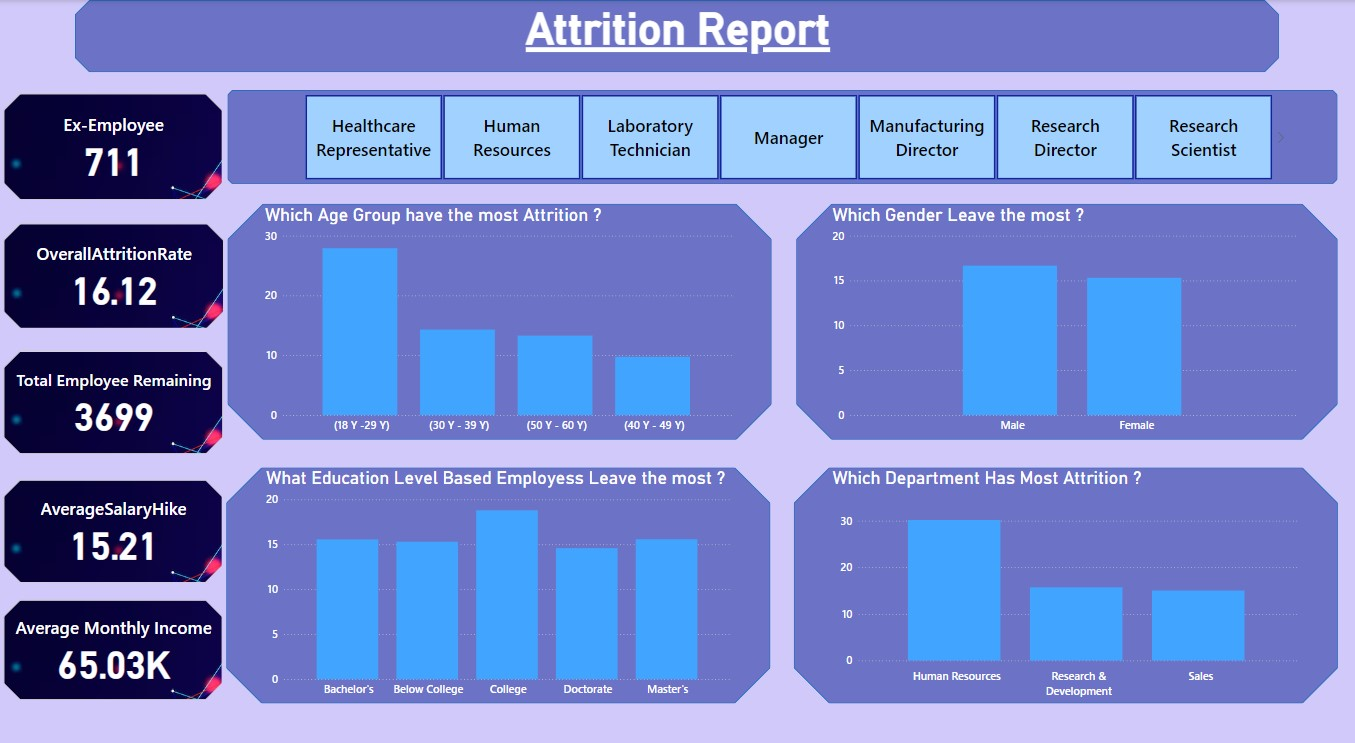

The page's visual inventory and layout, read from the dashboard file:
{"tool":"powerbi","page":{"name":"Main Dashboard","canvas":[2000,1100],"ordinal":0},"visuals":[{"type":"cardVisual","fields":{"Data":["Measure.Ex-Employee"]},"box":[0,132.7,333.6,167.7],"z":0},{"type":"cardVisual","fields":{"Data":["Measure.Total Employee"]},"box":[0,512.4,334.5,163],"z":1000},{"type":"shape","box":[335.8,299.6,802.3,347.9],"z":2000},{"type":"shape","box":[110.6,0,1775.5,106.6],"z":3000},{"type":"textbox","box":[737.9,0,524.8,90.5],"z":4000},{"type":"cardVisual","fields":{"Data":["Measure.OverallAttritionRate"]},"box":[0,324.4,335.5,165.9],"z":5000},{"type":"columnChart","title":"Which Age Group have the most Attrition ?","fields":{"Y":["Measure.OverallAttritionRate"],"Category":["Attrition data.Age (groups)"]},"box":[386.1,299.6,699.7,347.9],"z":6000},{"type":"shape","box":[1170.2,689.7,802.3,347.9],"z":7000},{"type":"shape","box":[1174.3,299.6,798.3,347.9],"z":8000},{"type":"shape","box":[335.8,132.7,1636.7,138.7],"z":9000},{"type":"columnChart","title":"Which Gender Leave the most ?","fields":{"Y":["Measure.OverallAttritionRate"],"Category":["Attrition data.Gender"]},"box":[1222.5,299.6,697.7,347.9],"z":10000},{"type":"columnChart","title":"Which Department Has Most Attrition ?","fields":{"Y":["Measure.OverallAttritionRate"],"Category":["Attrition data.Department"]},"box":[1222.5,689.7,697.7,347.9],"z":11000},{"type":"slicer","title":"OverallAttritionRate by Gender","fields":{"Values":["Attrition data.JobRole"]},"box":[424.3,132.7,1475.9,138.7],"z":12000},{"type":"shape","box":[333.8,689.7,802.3,347.9],"z":13000},{"type":"cardVisual","fields":{"Data":["Measure.APSH"]},"box":[0,702.2,333.6,162.2],"z":14000},{"type":"columnChart","title":"What Education Level Based Employess Leave the most ? ","fields":{"Y":["Measure.OverallAttritionRate"],"Category":["Education Level.Description"]},"box":[387.1,689.3,696.7,348.4],"z":15000},{"type":"cardVisual","fields":{"Data":["Measure.Average Monthly Income"]},"box":[0,879.2,333.6,158.5],"z":16000}]}

Visuals, with their boxes in screenshot pixels (x1, y1, x2, y2), scaled from the page's 2000x1100 canvas onto the 1355x743 screenshot:
cardVisual - Measure.Ex-Employee: box=[0, 90, 226, 203]
cardVisual - Measure.Total Employee: box=[0, 346, 227, 456]
shape: box=[228, 202, 771, 437]
shape: box=[75, 0, 1278, 72]
textbox: box=[500, 0, 855, 61]
cardVisual - Measure.OverallAttritionRate: box=[0, 219, 227, 331]
"Which Age Group have the most Attrition ?" columnChart: box=[262, 202, 736, 437]
shape: box=[793, 466, 1336, 701]
shape: box=[796, 202, 1336, 437]
shape: box=[228, 90, 1336, 183]
"Which Gender Leave the most ?" columnChart: box=[828, 202, 1301, 437]
"Which Department Has Most Attrition ?" columnChart: box=[828, 466, 1301, 701]
"OverallAttritionRate by Gender" slicer: box=[287, 90, 1287, 183]
shape: box=[226, 466, 770, 701]
cardVisual - Measure.APSH: box=[0, 474, 226, 584]
"What Education Level Based Employess Leave the most ? " columnChart: box=[262, 466, 734, 701]
cardVisual - Measure.Average Monthly Income: box=[0, 594, 226, 701]
